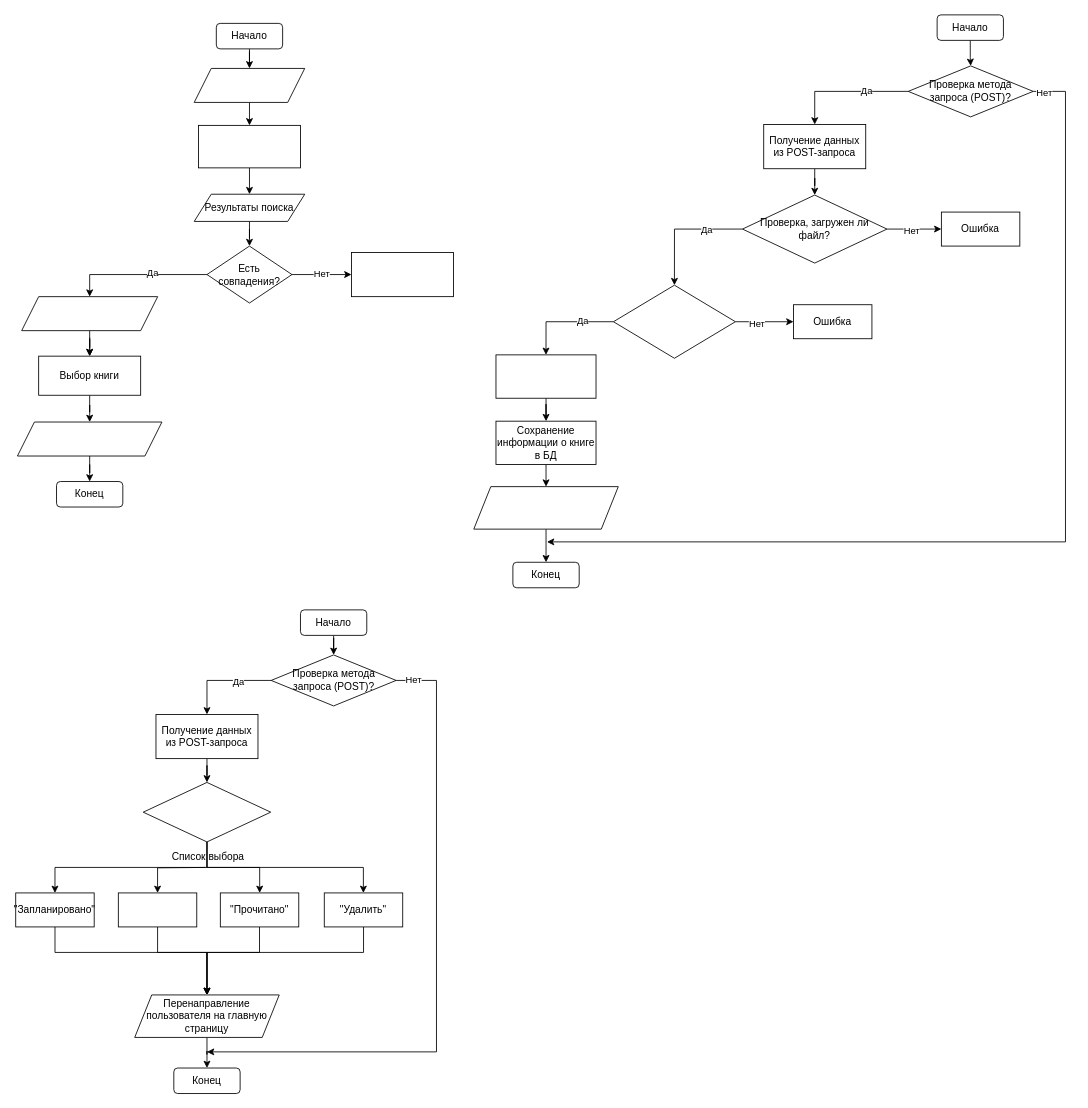
The diagram is 1088 pixels wide and 1108 high, and some of its shapes have lost their labels. The shapes that lost their labels are listed below. From the top down, each one's centre as x and y in pixels, then its label:
(249,85): Ввод поискового запроса
(249,146): Поиск книг по названию, автору, жанру и т.д.
(402,274): Вывести сообщение об отсутствии совпадений
(89,313): Показать список книг с краткой информацией
(674,321): Проверка формата файла (epub)?
(545,376): Сохранение файла на сервере
(89,438): Отображение детальной информации о книге
(545,507): Перенаправление пользователя на страницу успешной загрузки
(206,812): Проверка действия (action)
(157,909): "Читаю"
